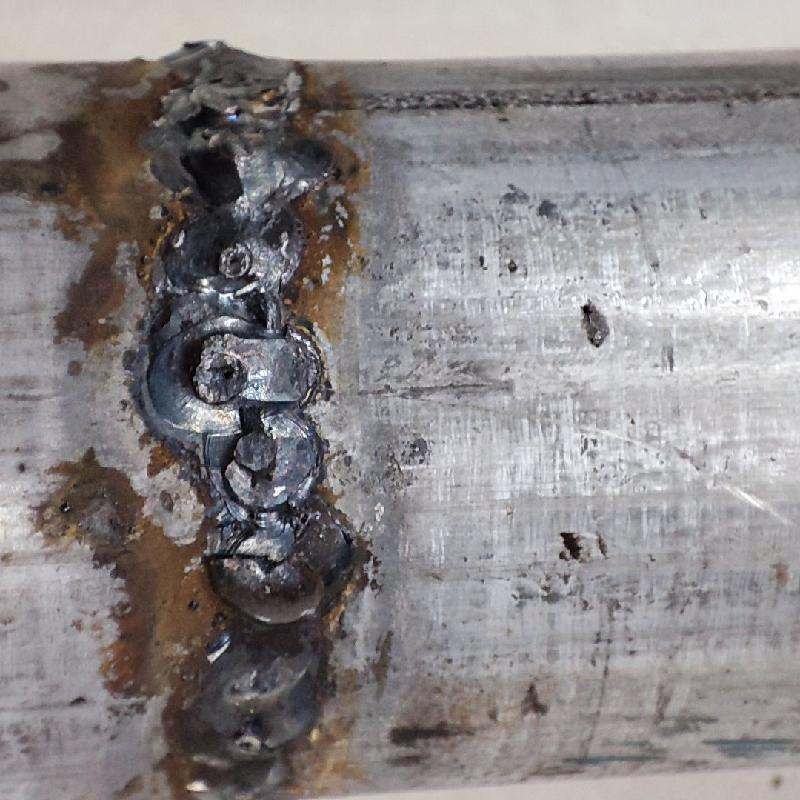Surface_pores: (191, 345, 248, 400), (193, 118, 228, 154), (218, 244, 255, 275)
Weld: (192, 550, 329, 626)
wrong_size: (149, 35, 329, 795)
